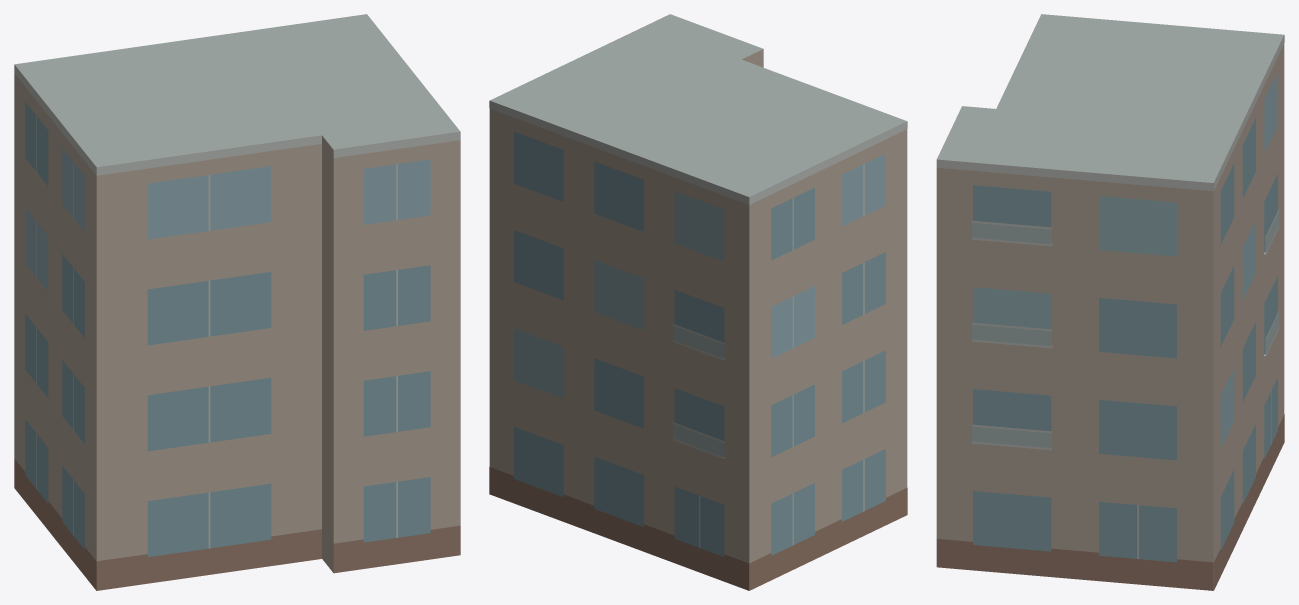
File: residential-b409e386-dc3b-4172-b36c-afa7ca656c34.glb
3 views of the same model, side by side, from view 1: azimuth 30°, elevation 25°; view 2: azimuth 150°, elevation 25°; view 3: azimuth 270°, elevation 25° (orthographic). The views are drawn at different scales.
Visible parts, largest first — view 1: residential-b409e386-dc3b-4172-b36c-afa7ca656c34.tmp; view 2: residential-b409e386-dc3b-4172-b36c-afa7ca656c34.tmp; view 3: residential-b409e386-dc3b-4172-b36c-afa7ca656c34.tmp.
Part boxes in pixels (x1,y1,x2,y2): residential-b409e386-dc3b-4172-b36c-afa7ca656c34.tmp: (14,14,460,590); residential-b409e386-dc3b-4172-b36c-afa7ca656c34.tmp: (489,14,907,590); residential-b409e386-dc3b-4172-b36c-afa7ca656c34.tmp: (936,14,1284,590).
Bounding box in the file's own units: 10.86 × 12.2 × 9.44.
